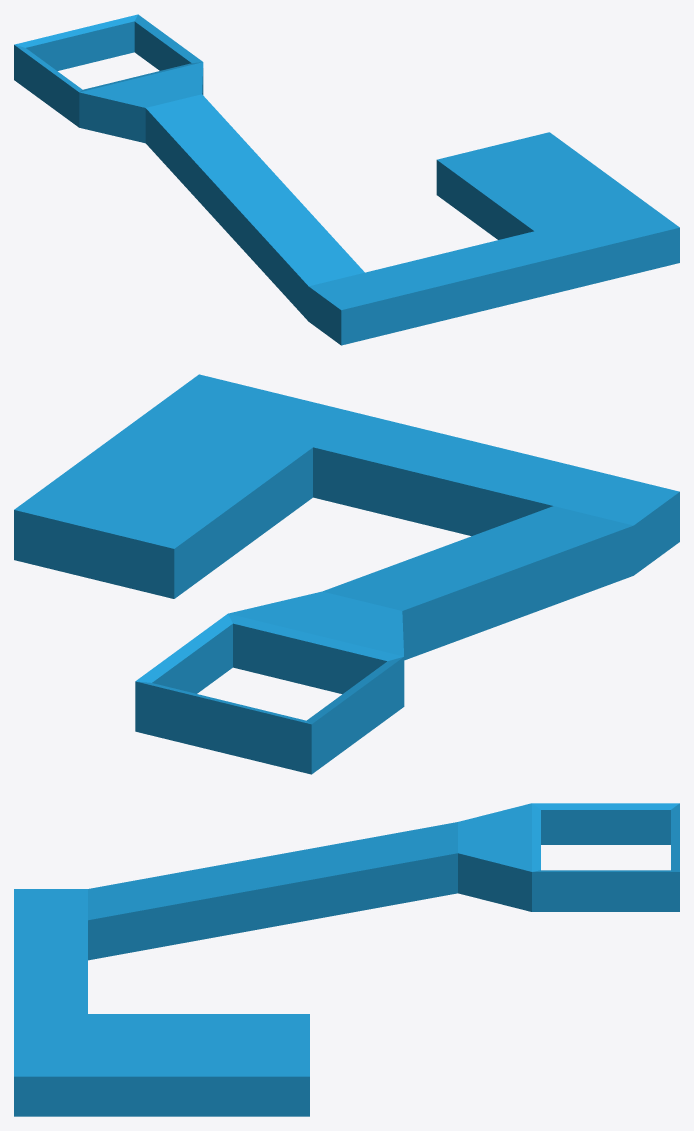
File: model_map_06.fbx
3 renders of one model, top to bottom at view 1: azimuth 30°, elevation 25°; view 2: azimuth 150°, elevation 25°; view 3: azimuth 270°, elevation 25°, orthographic. The views are drawn at different scales.
Parts seen in each view (by area): view 1: col, lvl; view 2: col, lvl; view 3: col, lvl.
Boxes of the visible parts, bbox=[...] form: col: bbox=[14, 14, 679, 310]; lvl: bbox=[14, 21, 679, 345]; col: bbox=[14, 374, 679, 724]; lvl: bbox=[14, 447, 679, 774]; col: bbox=[14, 803, 679, 1076]; lvl: bbox=[14, 810, 679, 1116].
Bounding box in the file's own units: 660 × 160 × 900.
